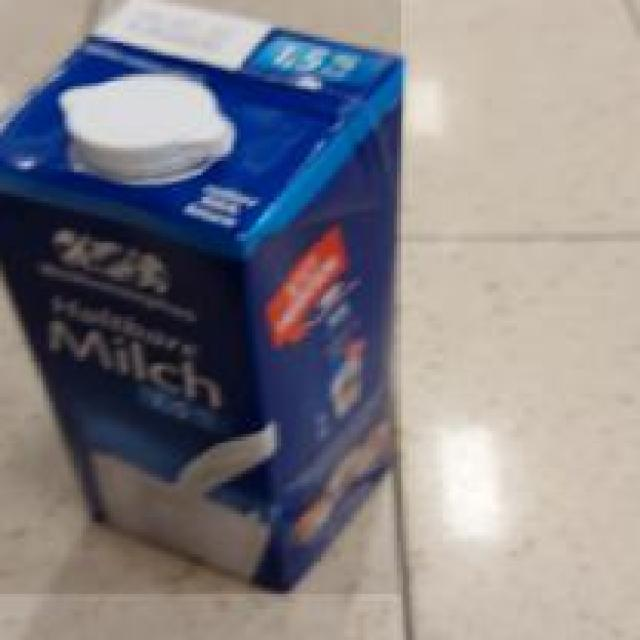milk: (0, 0, 403, 597)
